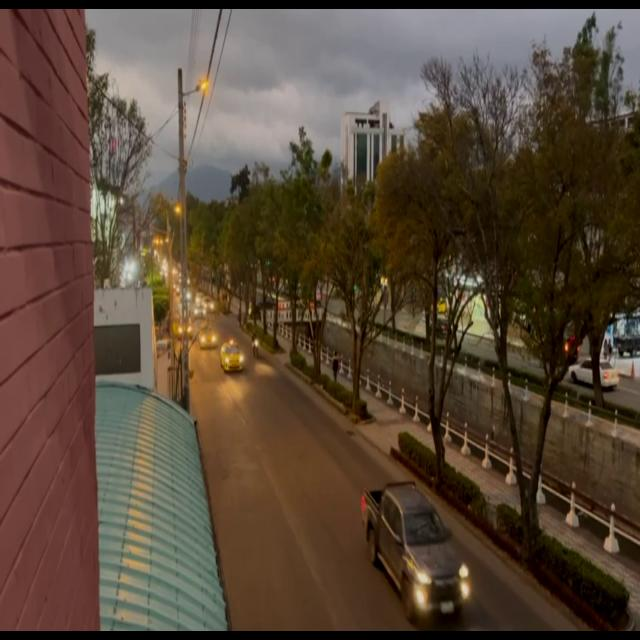CMT: (368, 490, 469, 614)
SED: (220, 344, 243, 371)
